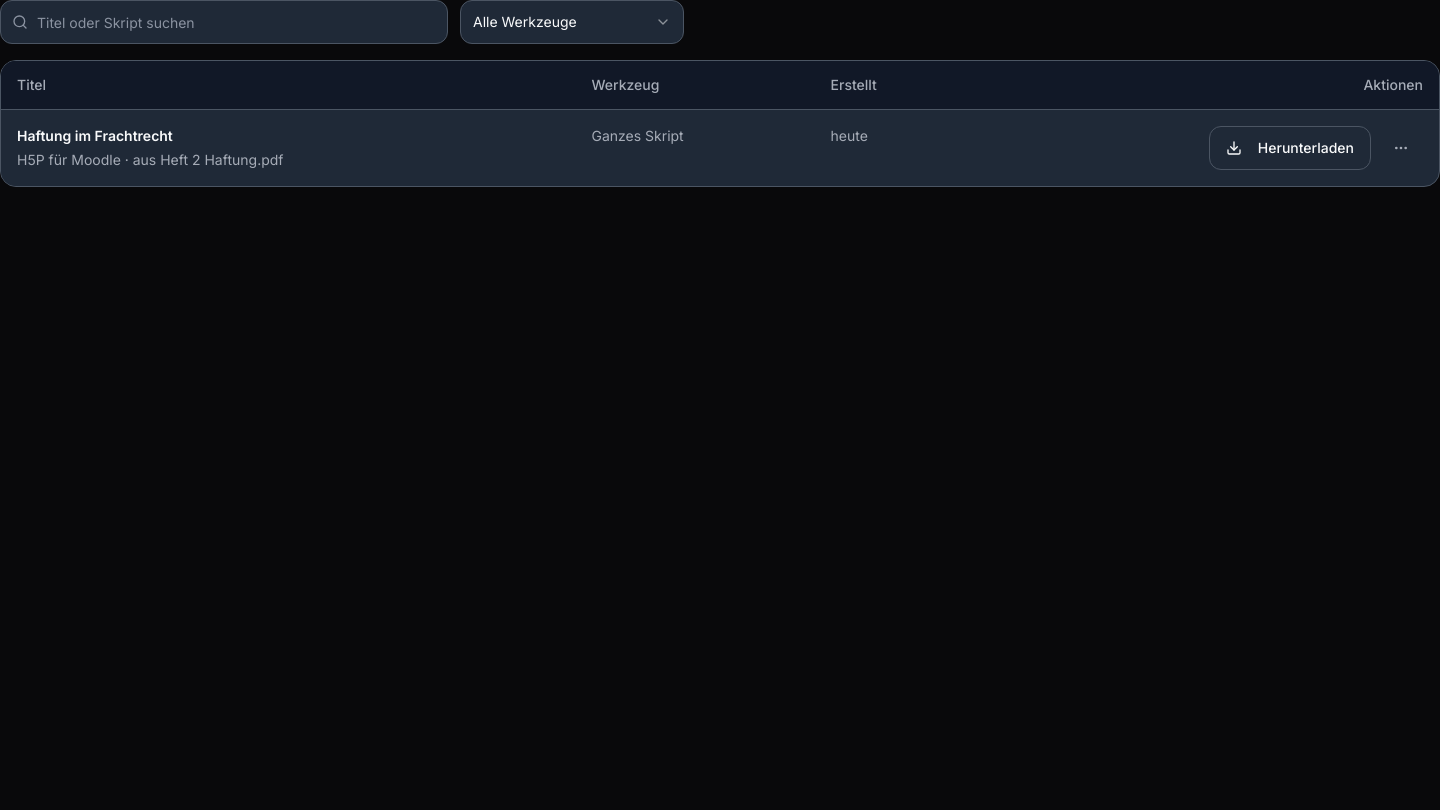
Test case: Meine Materialien (PROJ-52) › benennt um und zeigt den neuen Titel
Press Enter in the button named "Weitere Aktionen für Haftung im Frachtrecht", box 1379,126 -> 1423,170
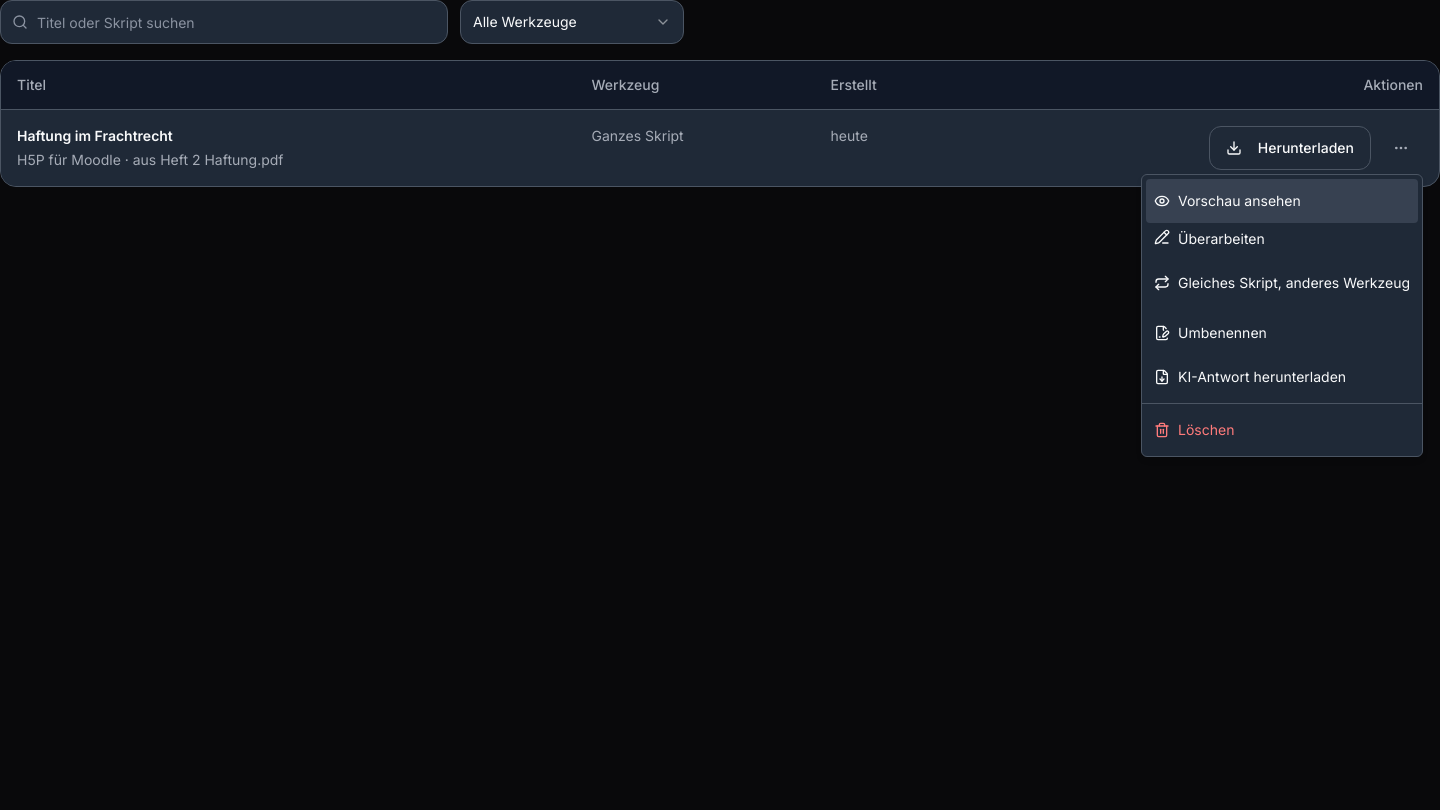
Click the menu item "Umbenennen" at (1210, 332), box 1154,324 -> 1267,341
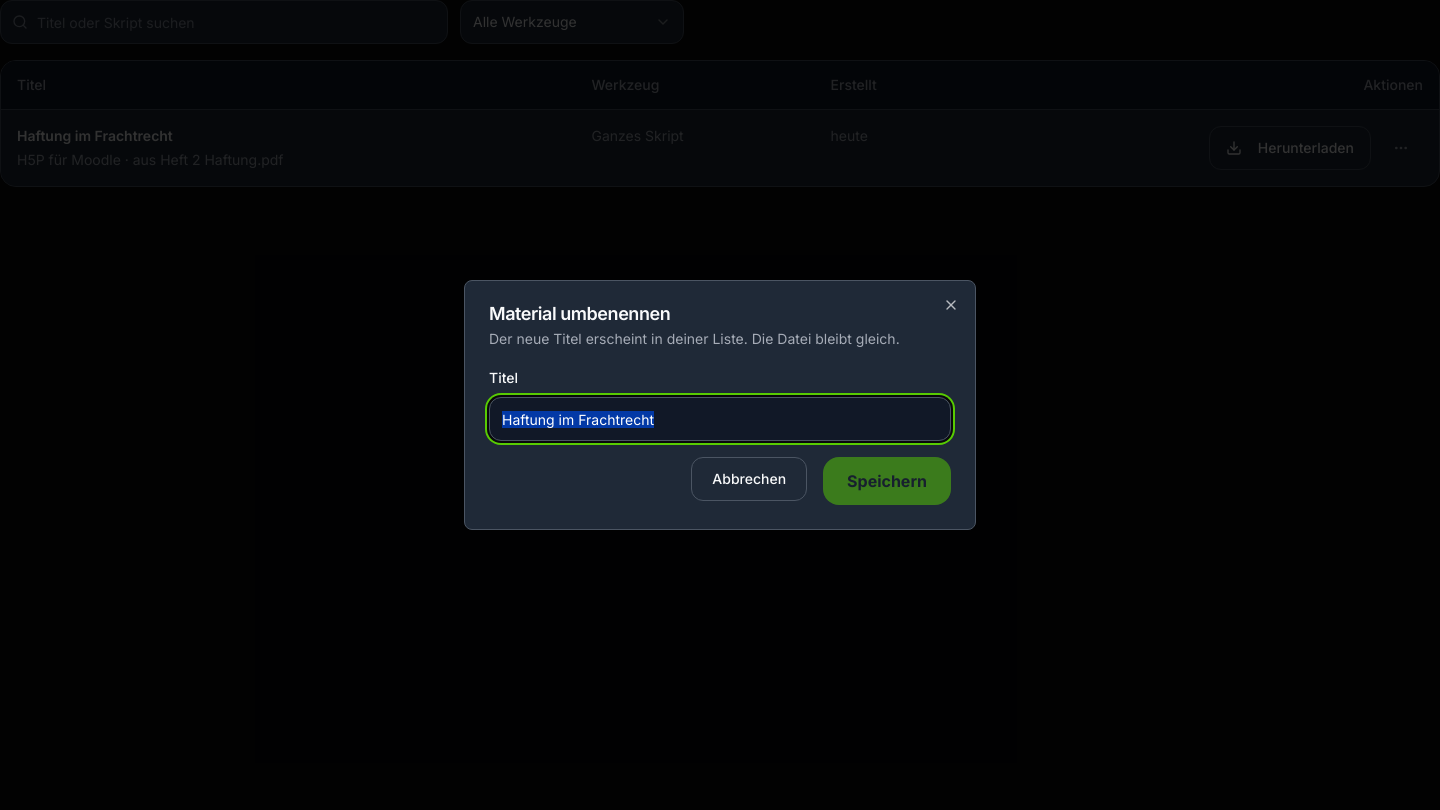
Now the field labelled "Titel" holds "Haftung im Frachtrecht"
Now the button "Speichern" is disabled, box 823,457 -> 951,505
Replace the text in the field labelled "Titel" with "  Haftung (neu)  " at (720, 419), box 489,397 -> 951,441
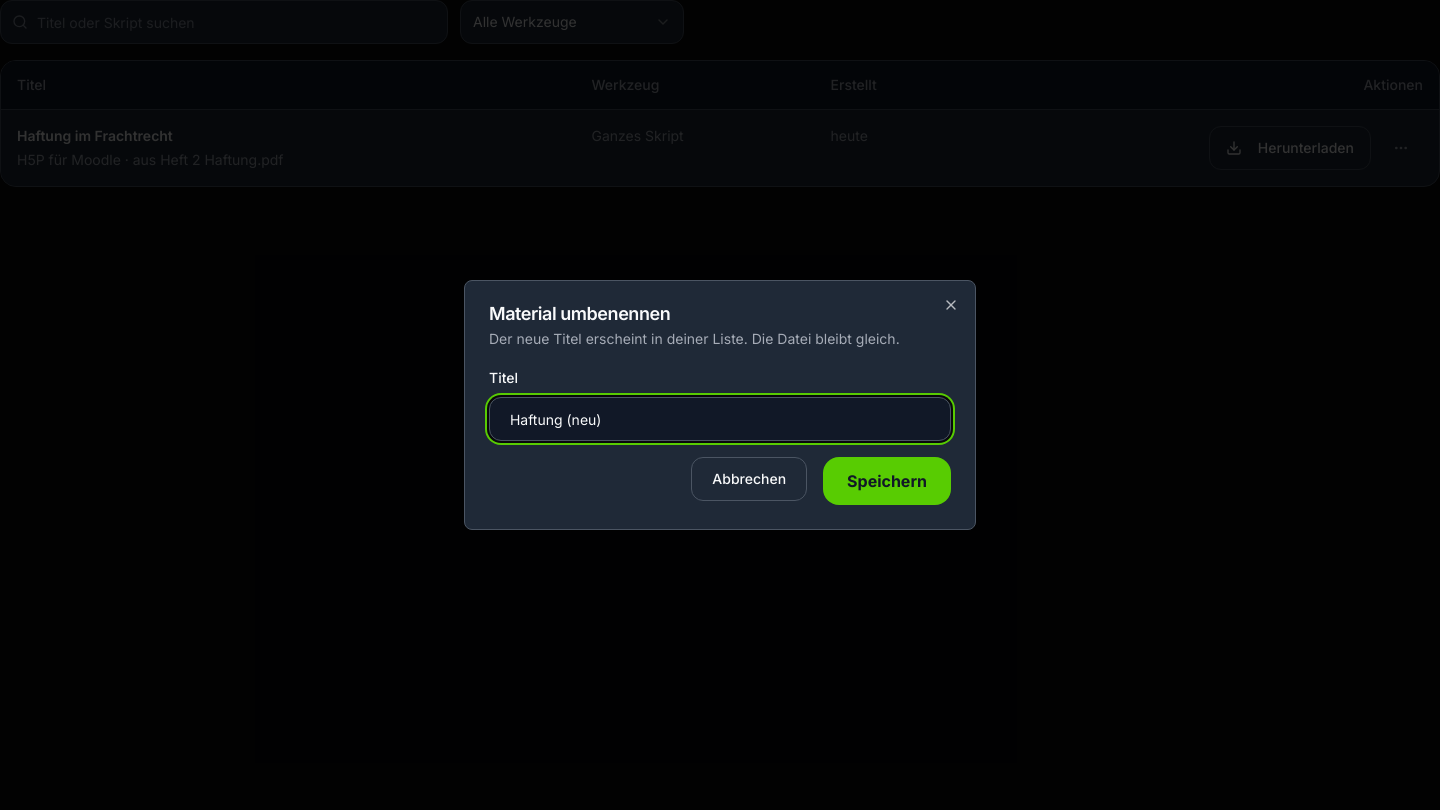
Click the button "Speichern" at (887, 481), box 823,457 -> 951,505
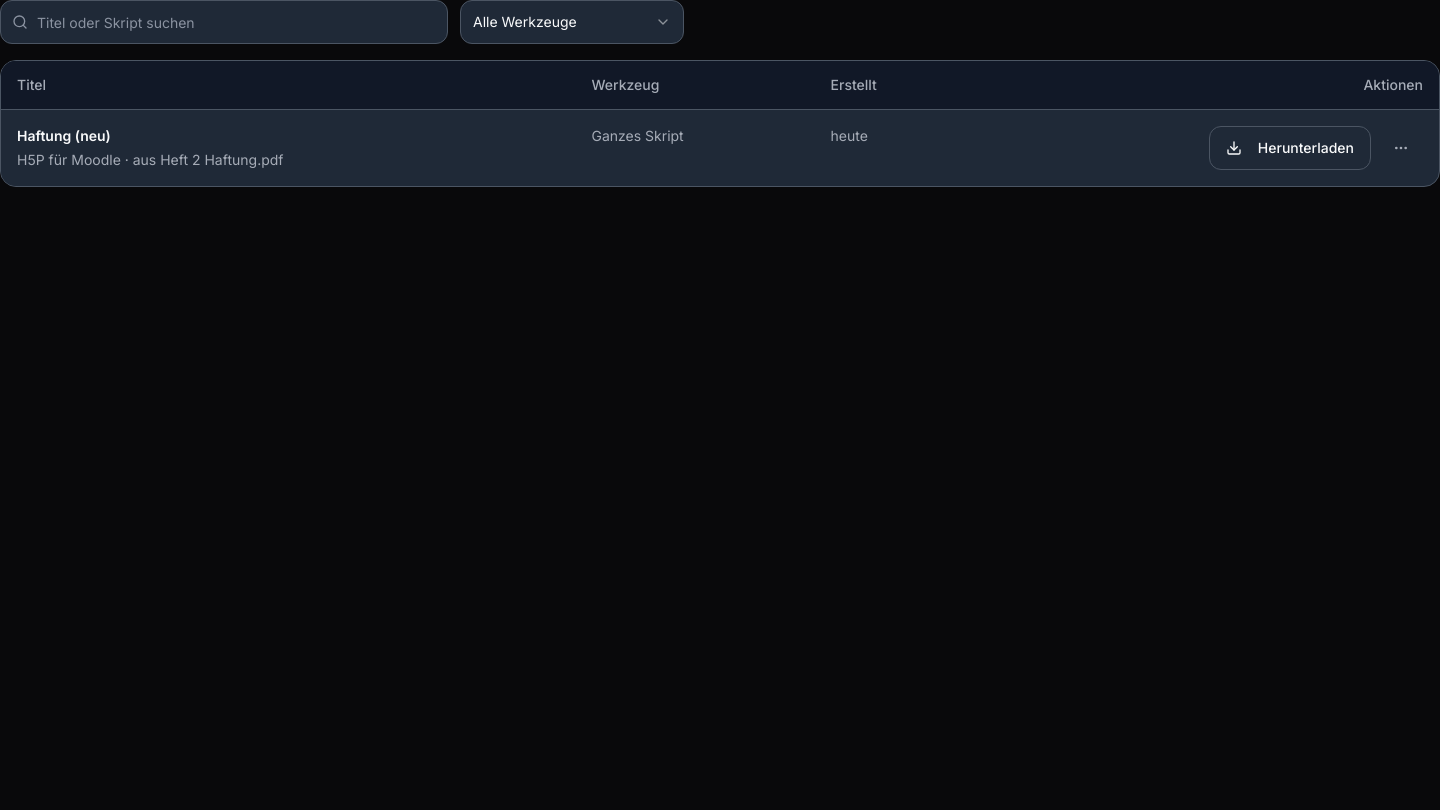
Now the text "Haftung (neu)" is shown, box 17,126 -> 111,146
